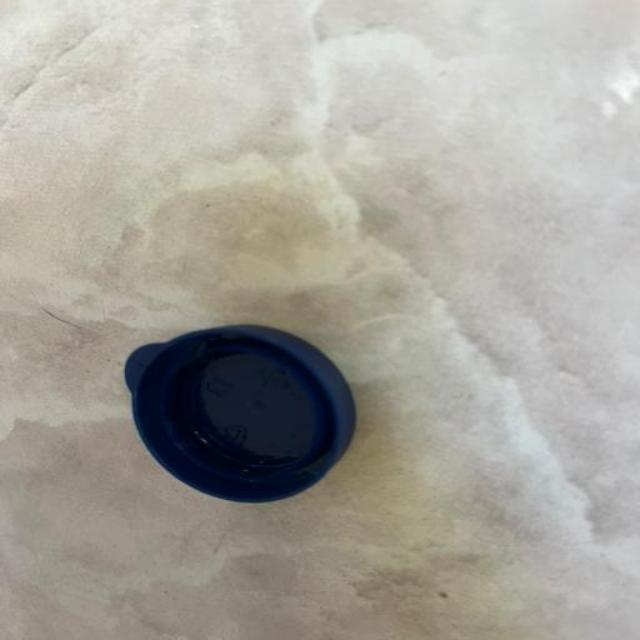HDPE: (57, 292, 424, 600)
